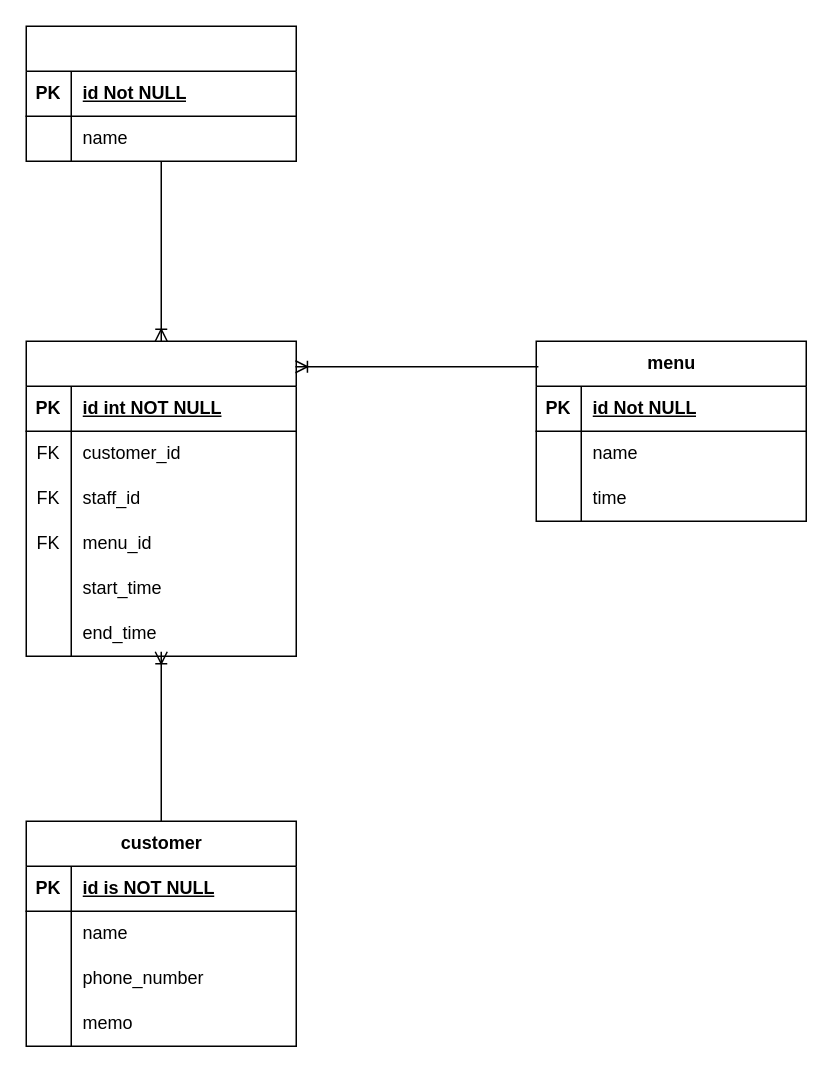
The diagram is 833 pixels wide and 1073 high, and some of its shapes have lost their labels. Here are the shapes that lost their labels. From the top down, the box of each, then its label:
(25, 25, 296, 161): staff
(25, 340, 296, 656): Reservation
